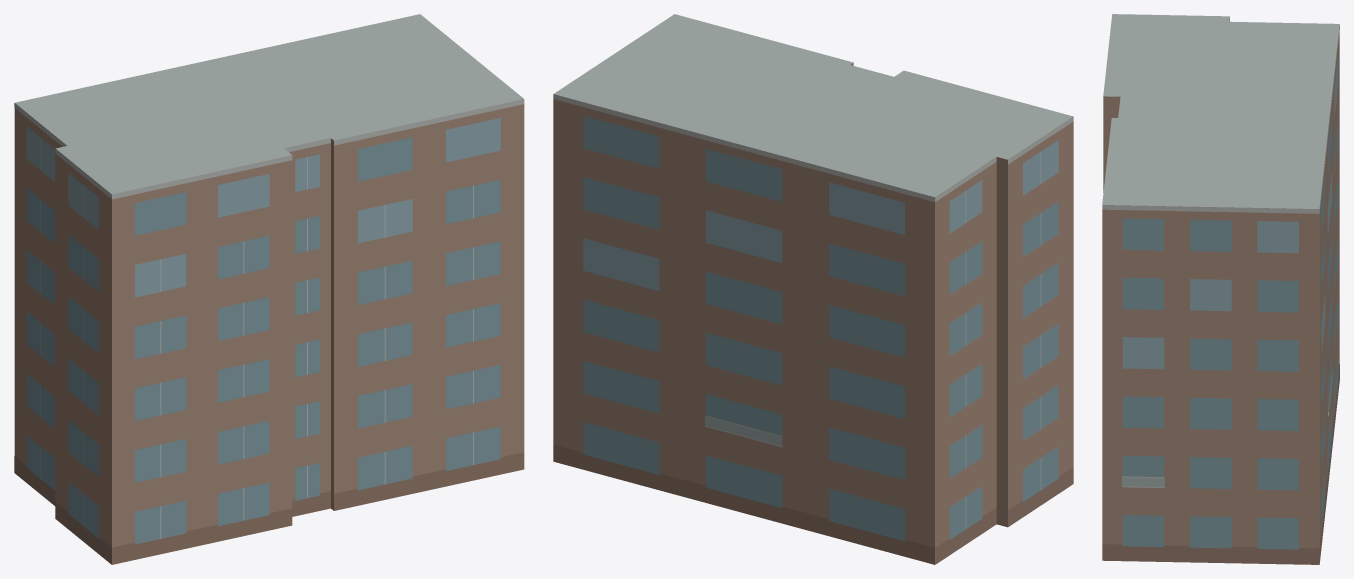
The model's file is survey-upis-32652742.glb.
3 views of the same model, side by side, from view 1: azimuth 30°, elevation 25°; view 2: azimuth 150°, elevation 25°; view 3: azimuth 270°, elevation 25° (orthographic). The views are drawn at different scales.
Parts seen in each view (by area): view 1: survey-upis-32652742.tmp; view 2: survey-upis-32652742.tmp; view 3: survey-upis-32652742.tmp.
Boxes of the visible parts, x1,y1,x2,y2 form: survey-upis-32652742.tmp: [14, 14, 524, 564]; survey-upis-32652742.tmp: [553, 14, 1073, 564]; survey-upis-32652742.tmp: [1102, 14, 1339, 564].
Size of the model in its own units: 21.3 by 18.1 by 10.97.
